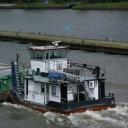tugboat: (10, 41, 118, 119)
